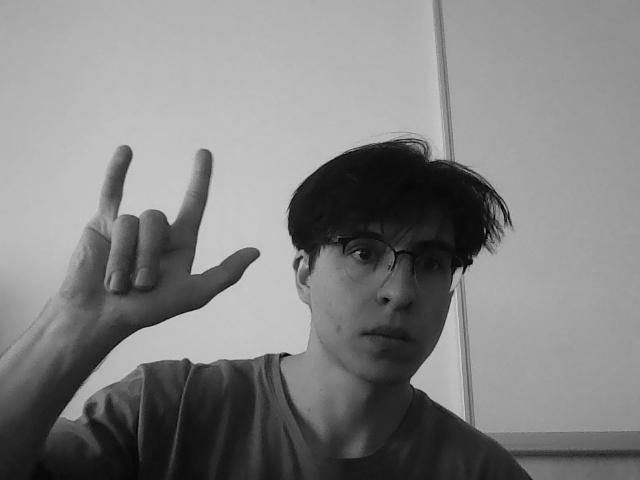I_Love_You: (86, 134, 262, 328)
